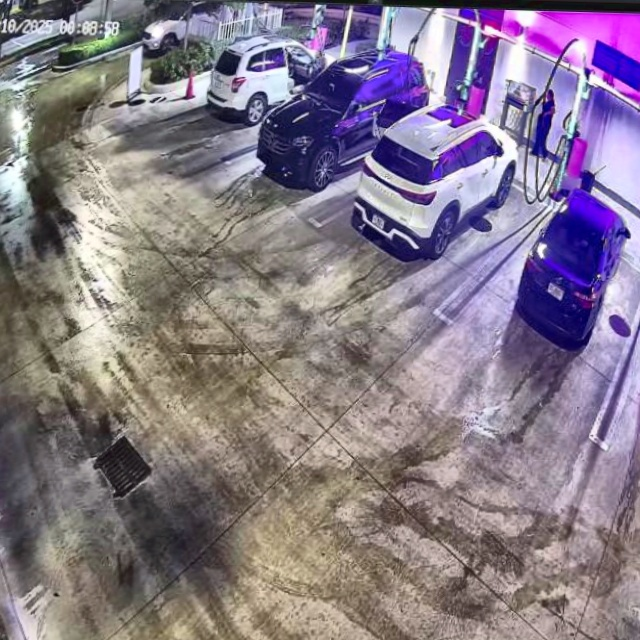Car: (349, 101, 523, 257), (256, 49, 433, 185)
